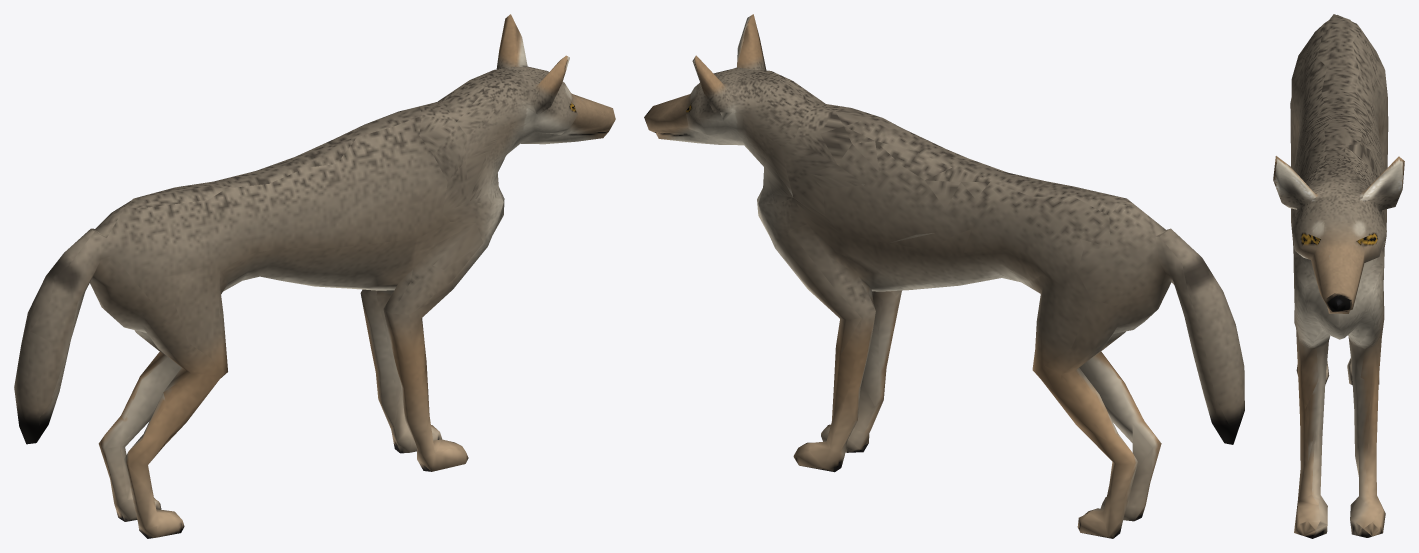
Rendered from wolf_alert_lod1.glb.
The picture shows the model from 3 angles, left to right: view 1: azimuth 30°, elevation 25°; view 2: azimuth 150°, elevation 25°; view 3: azimuth 270°, elevation 25°; orthographic projection. The views are drawn at different scales.
Parts seen in each view (by area): view 1: wolf_alert_lod1_mesh; view 2: wolf_alert_lod1_mesh; view 3: wolf_alert_lod1_mesh.
Part boxes in pixels (box(x1,y1,x2,y2)): wolf_alert_lod1_mesh: box(14, 14, 615, 538); wolf_alert_lod1_mesh: box(644, 14, 1244, 538); wolf_alert_lod1_mesh: box(1273, 14, 1404, 538).
Size of the model in its own units: 1.16 by 0.7337 by 0.2031.
Materials: 1 (1 with a texture image).
